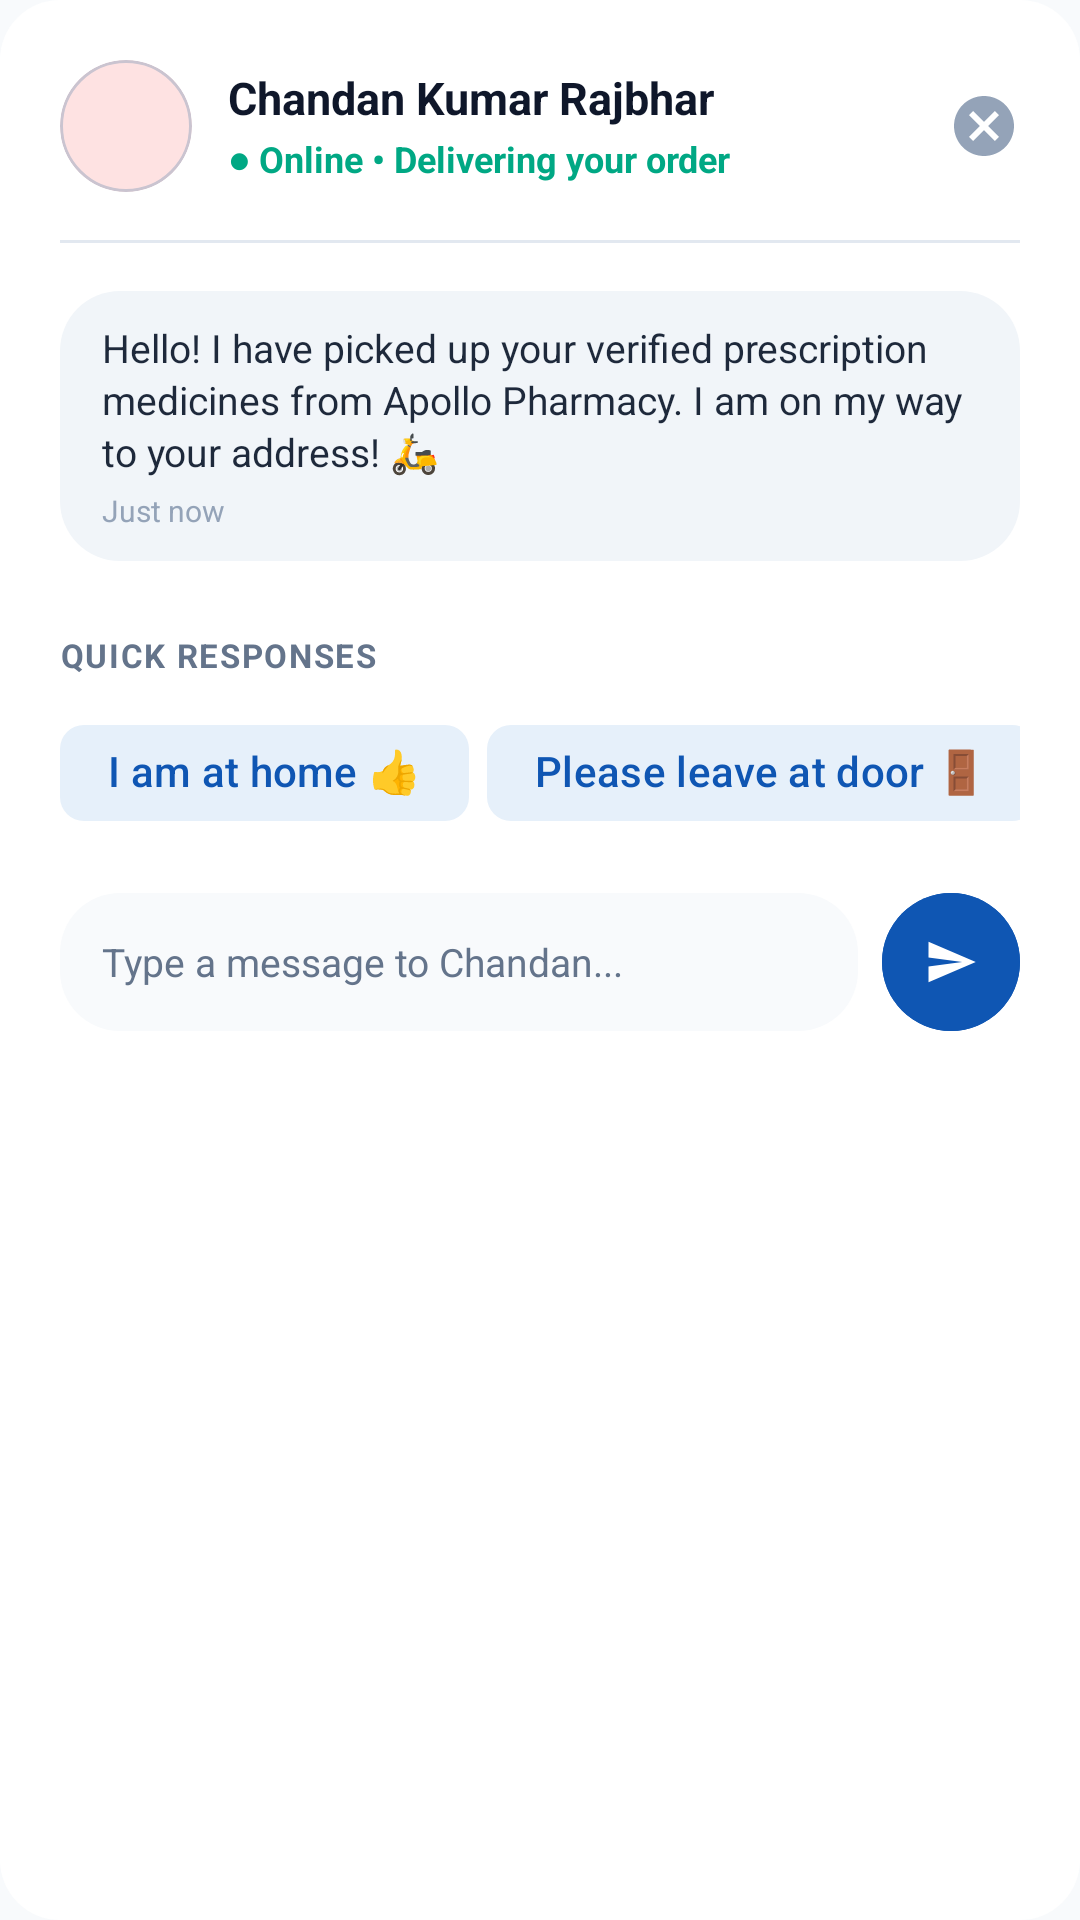

Point at icon controls on the screen. Image size 1080x1920, points as point (x, y).
Close: point (984, 126)
send: point (951, 962)
